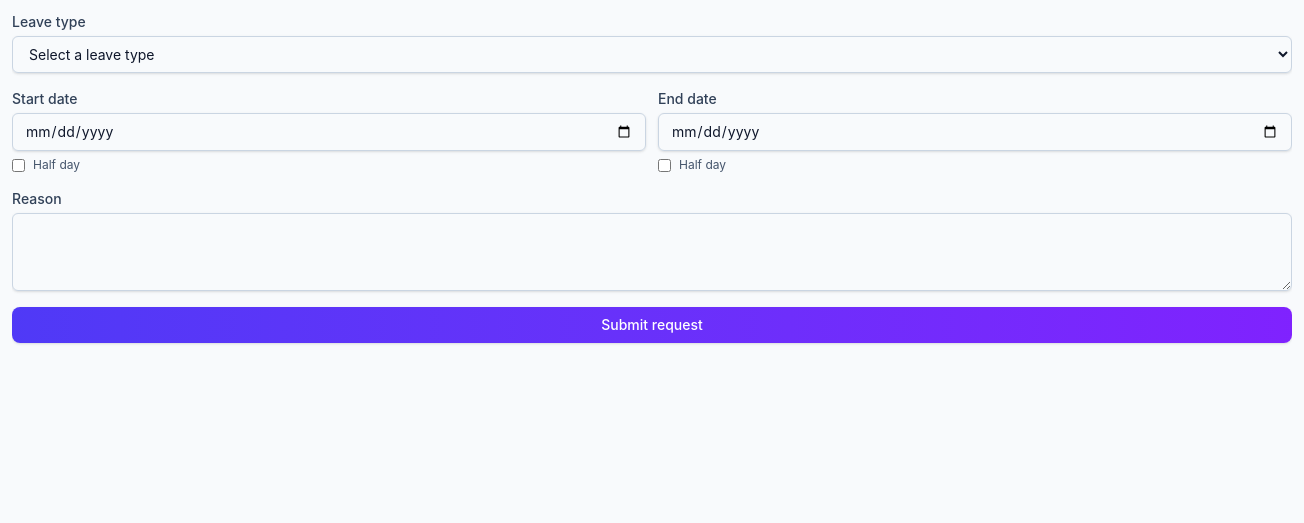
it: RequestLeaveForm › blocks submission when the end date is before the start date
The image size is (1304, 523).
Select "Annual Leave" in the dropdown labelled "Leave type" at (652, 54), box [12,36,1292,73]
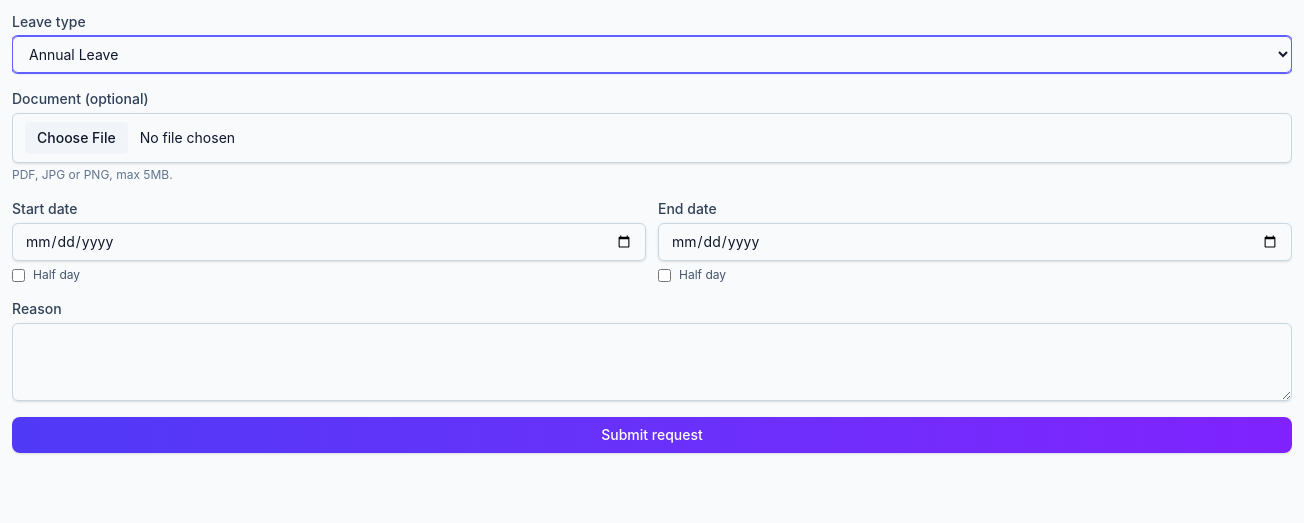
Type "2027-01-10" into the date field labelled "Start date".
click(329, 242); type("2027-01-10")  # box [12,223,646,261]
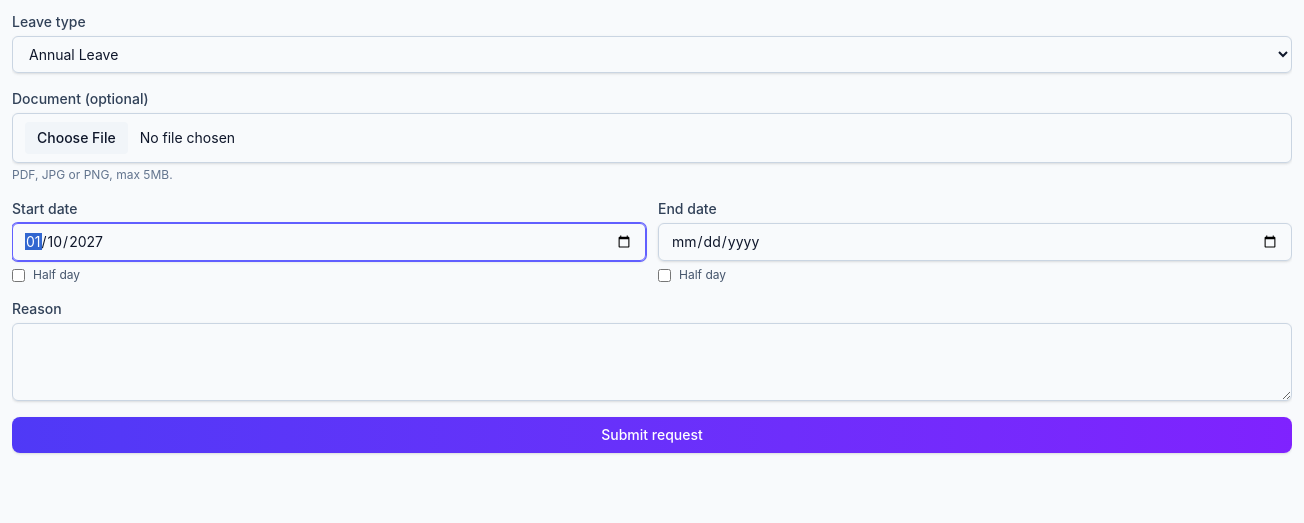
Type "Testing" into the text box labelled "Reason".
click(652, 362); type("Testing")  # box [12,323,1292,401]
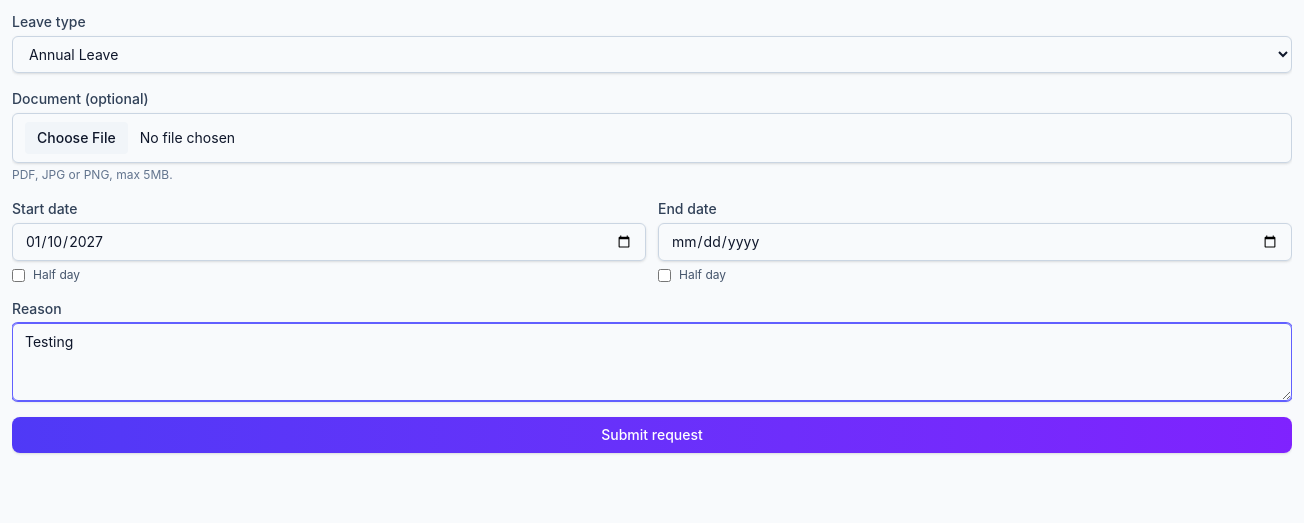
Type "2027-01-05" into the date field labelled "End date".
click(975, 242); type("2027-01-05")  # box [658,223,1292,261]
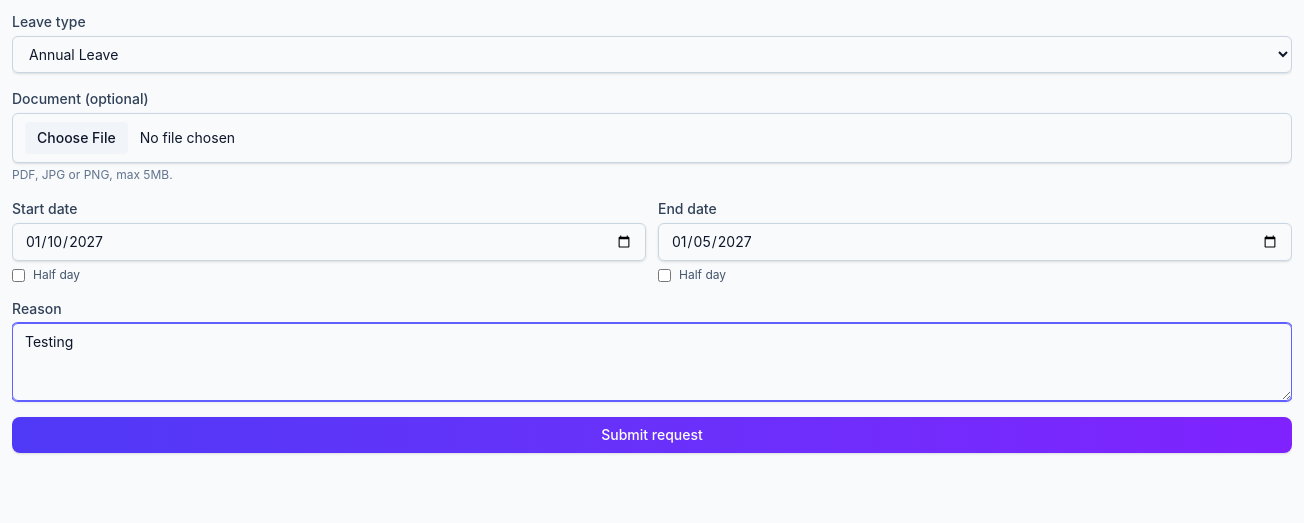
Submit the form named "submit request"
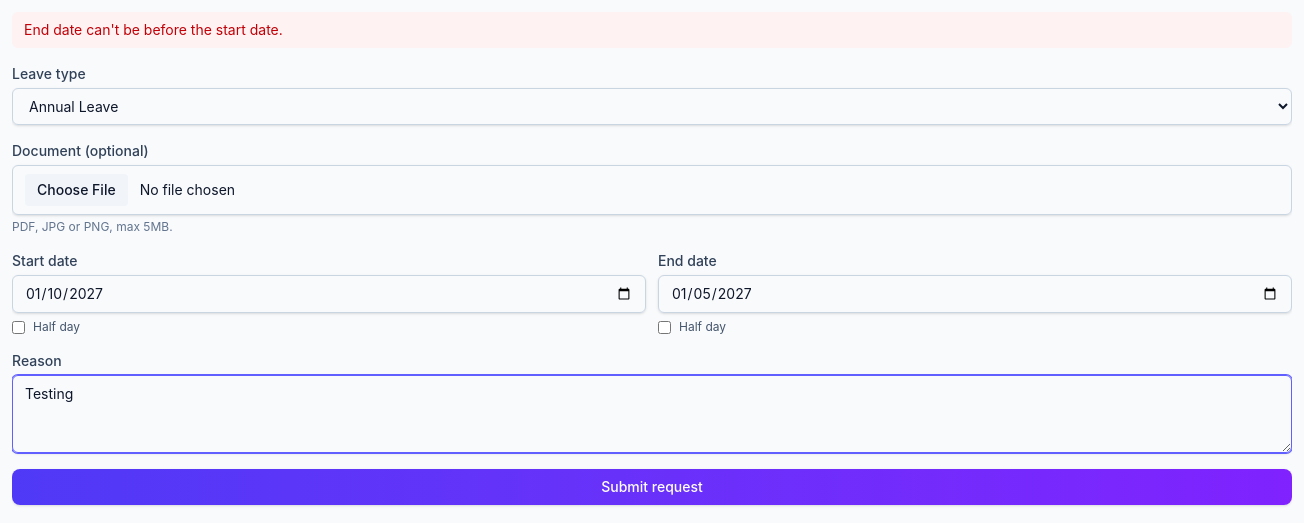
Now the message shows "End date can't be before the start date", box [24,21,283,38]
